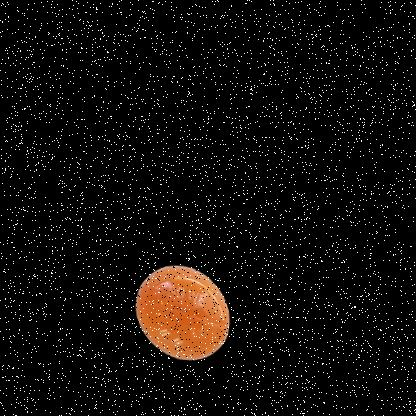welood: (70, 193, 288, 414)
